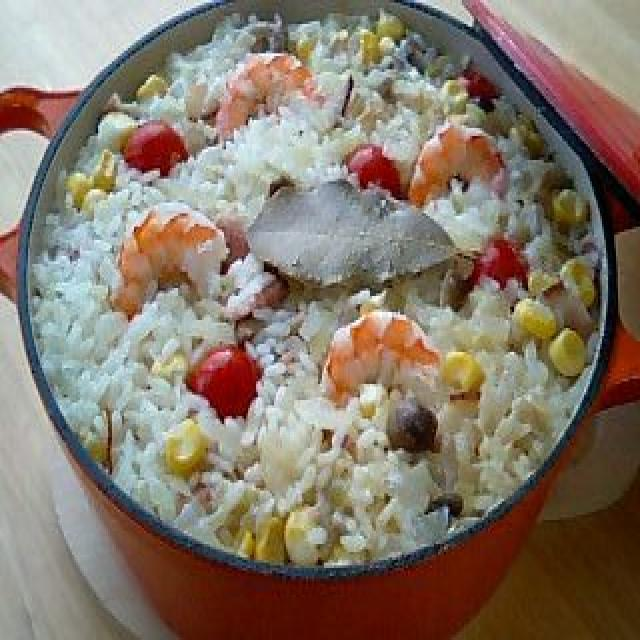米饭主食: (16, 0, 616, 581)
